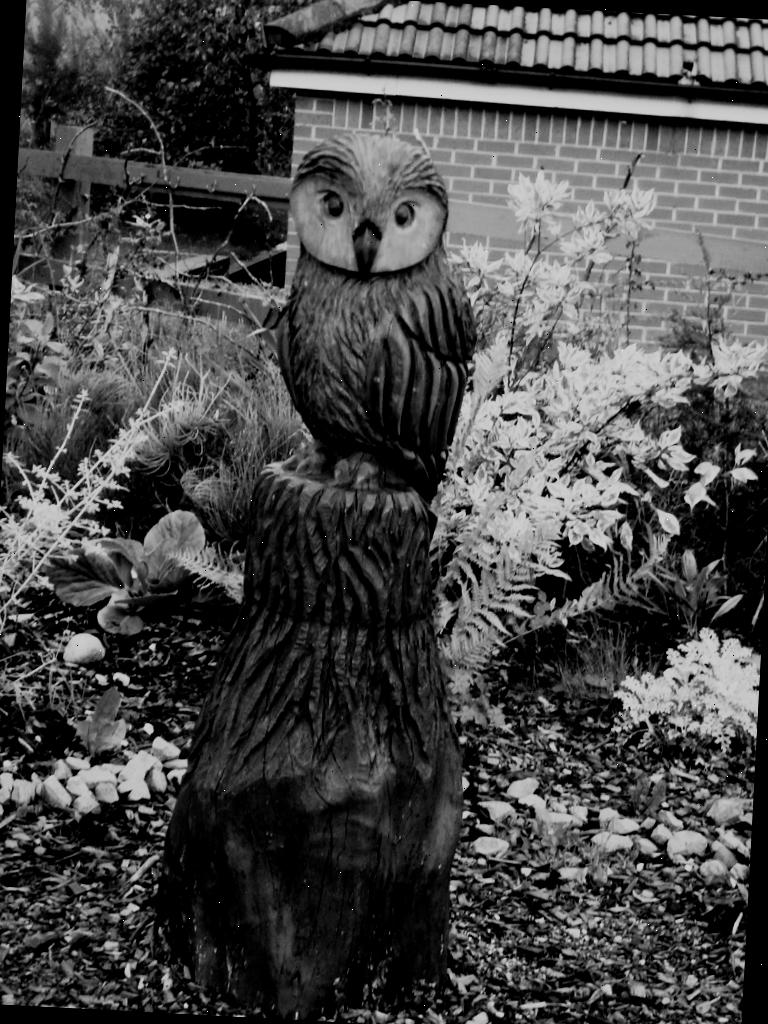Owl: (276, 135, 482, 487)
